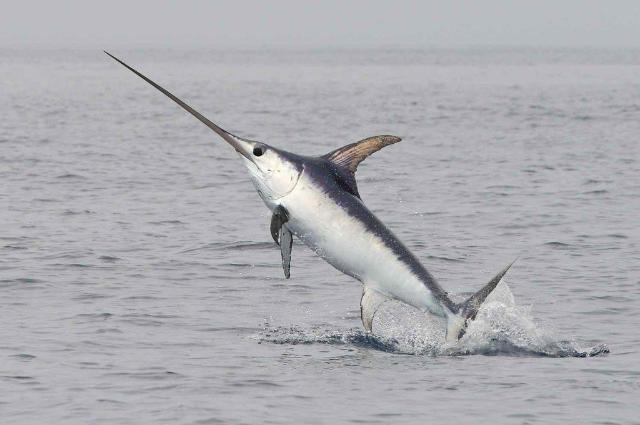Mulut: (98, 37, 276, 195)
Sirip Anal: (419, 281, 456, 325)
Sirip Dada: (257, 194, 307, 284)
Sirip Ekor: (432, 254, 524, 362)
Sirip Perut: (334, 268, 404, 352)
Sirip Punggung: (314, 123, 411, 209)
